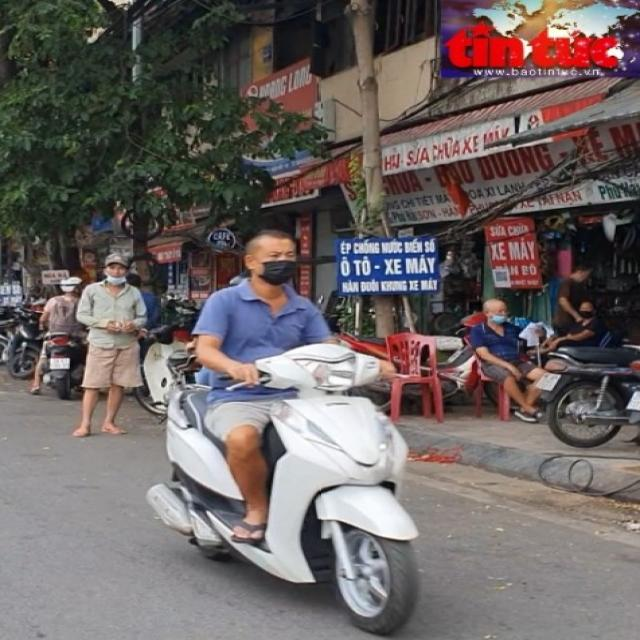Face and Hair: (232, 215, 316, 298)
